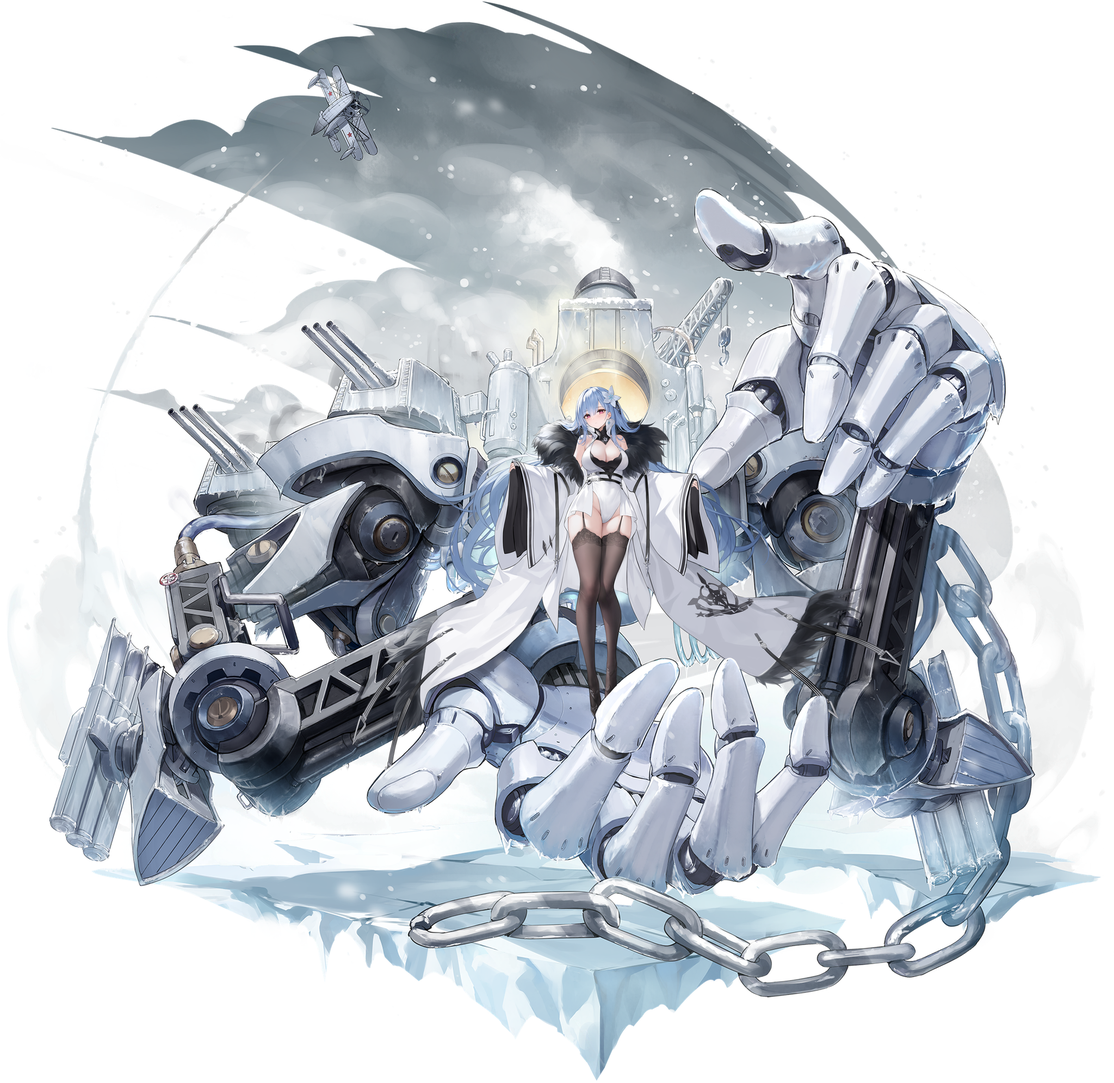person: (508, 351, 695, 750)
